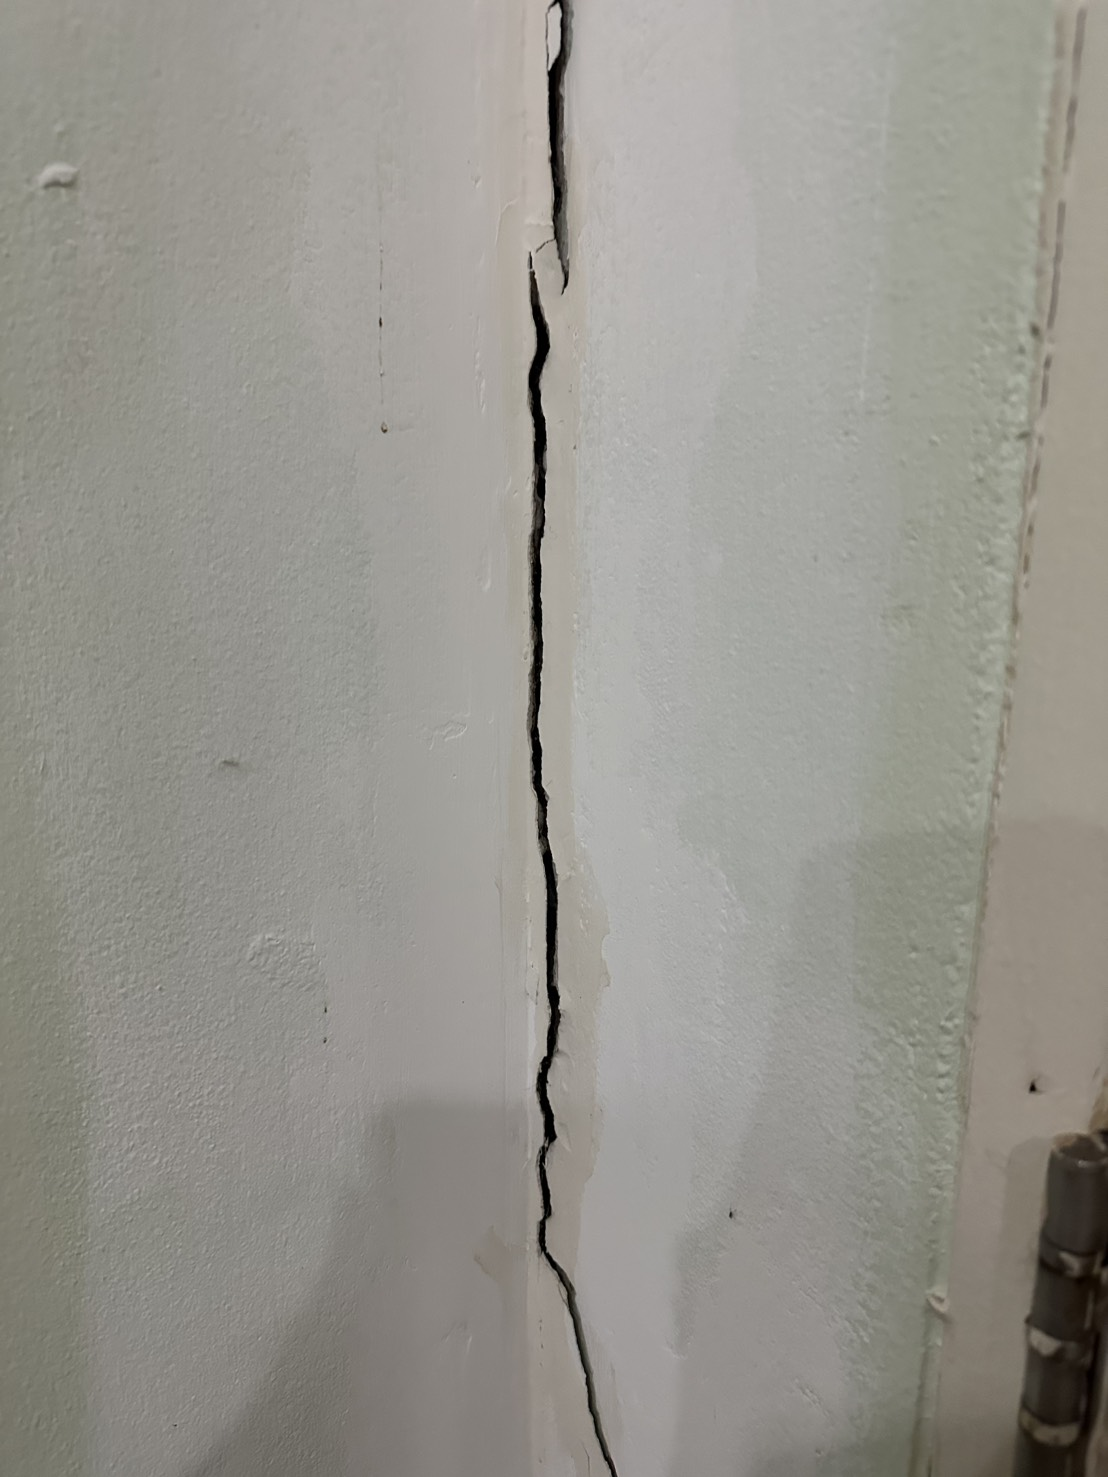High: (442, 1, 698, 1477)
